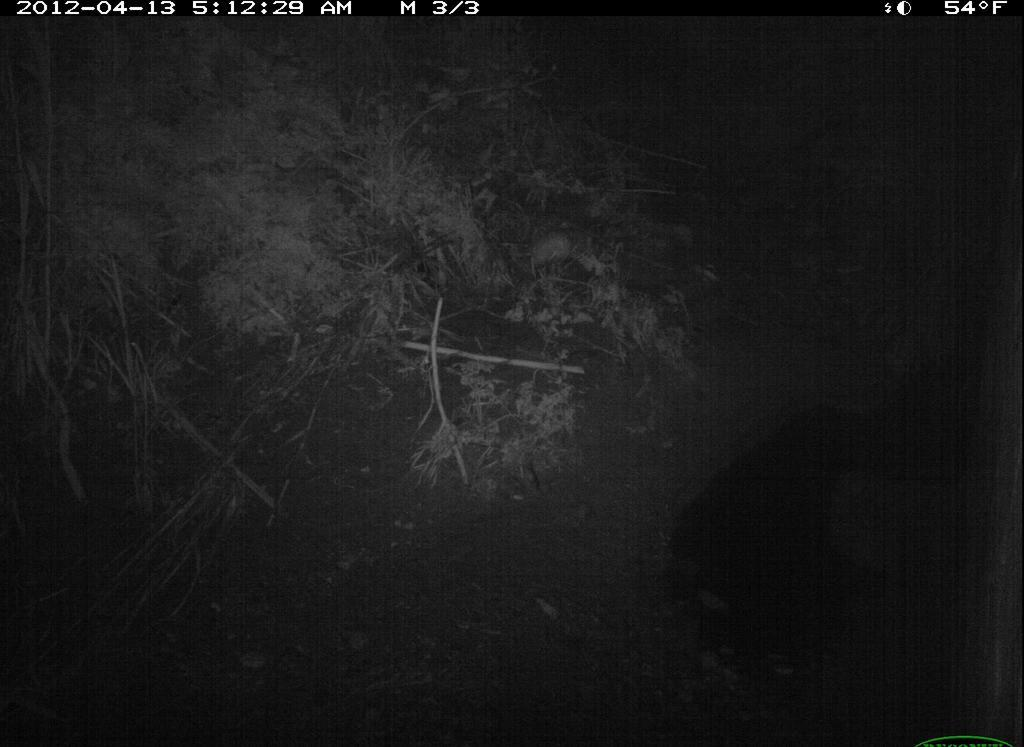opossum: (513, 216, 596, 283)
